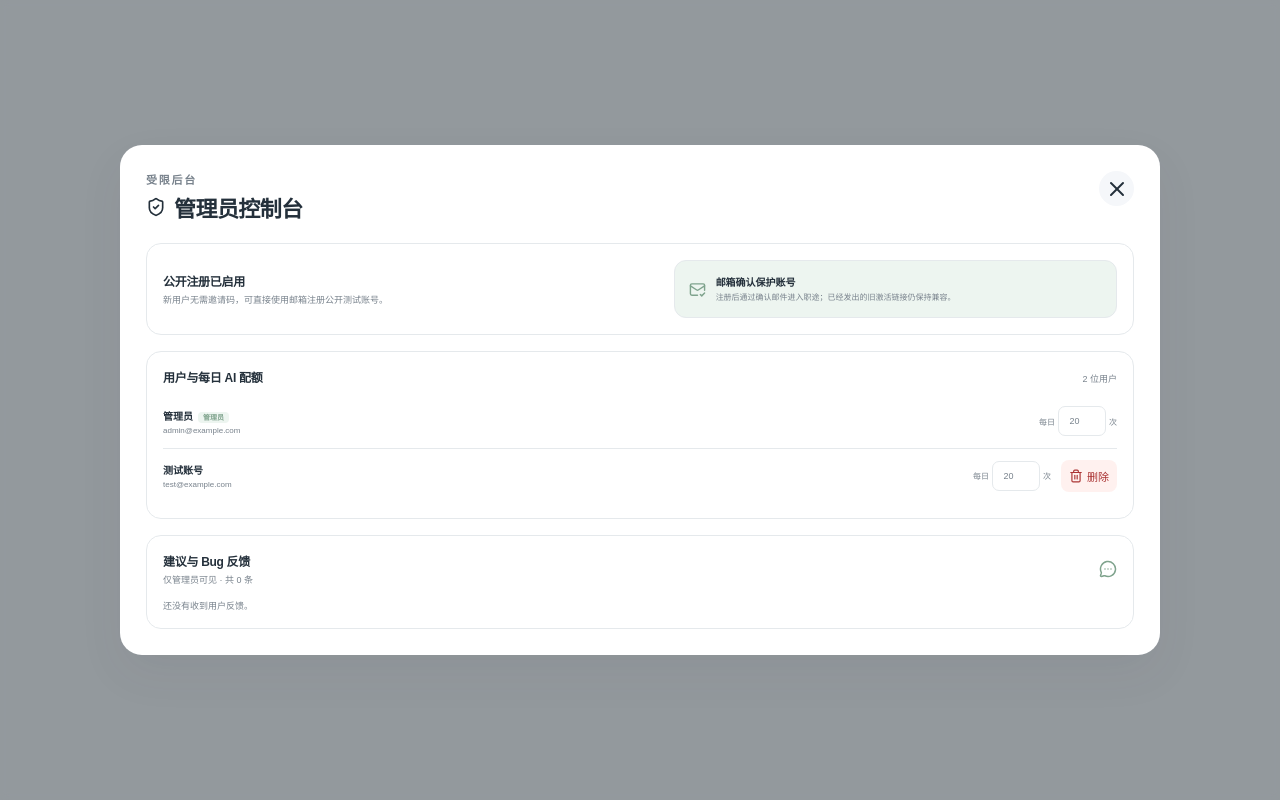
Test: AdminPanel › requires the matching email then removes the account from the list
This screenshot has width=1280, height=800.
Click the button with aria-label "删除用户 test@example.com" at (1089, 476), box [1061,460,1117,492]
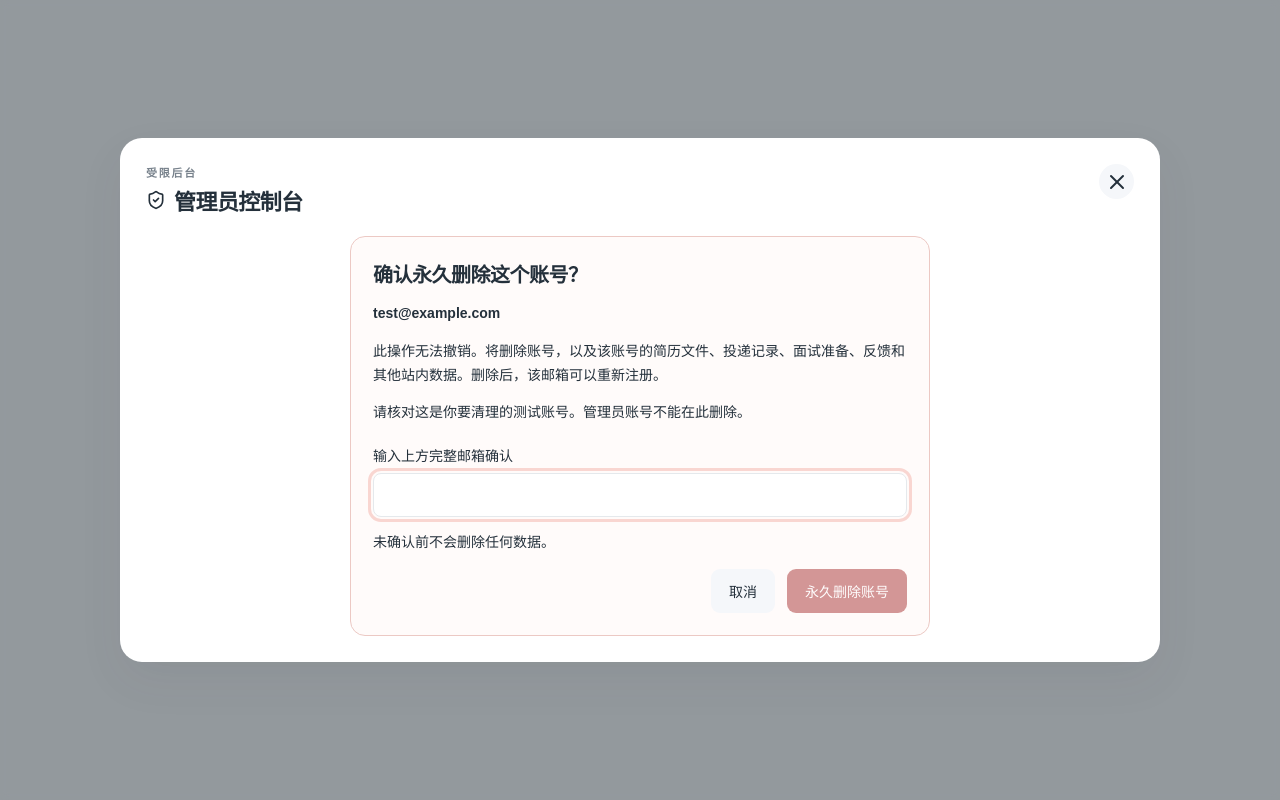
Type "wrong@example.com" into the field labelled "输入上方完整邮箱确认" at (640, 495), box [373,473,907,517]
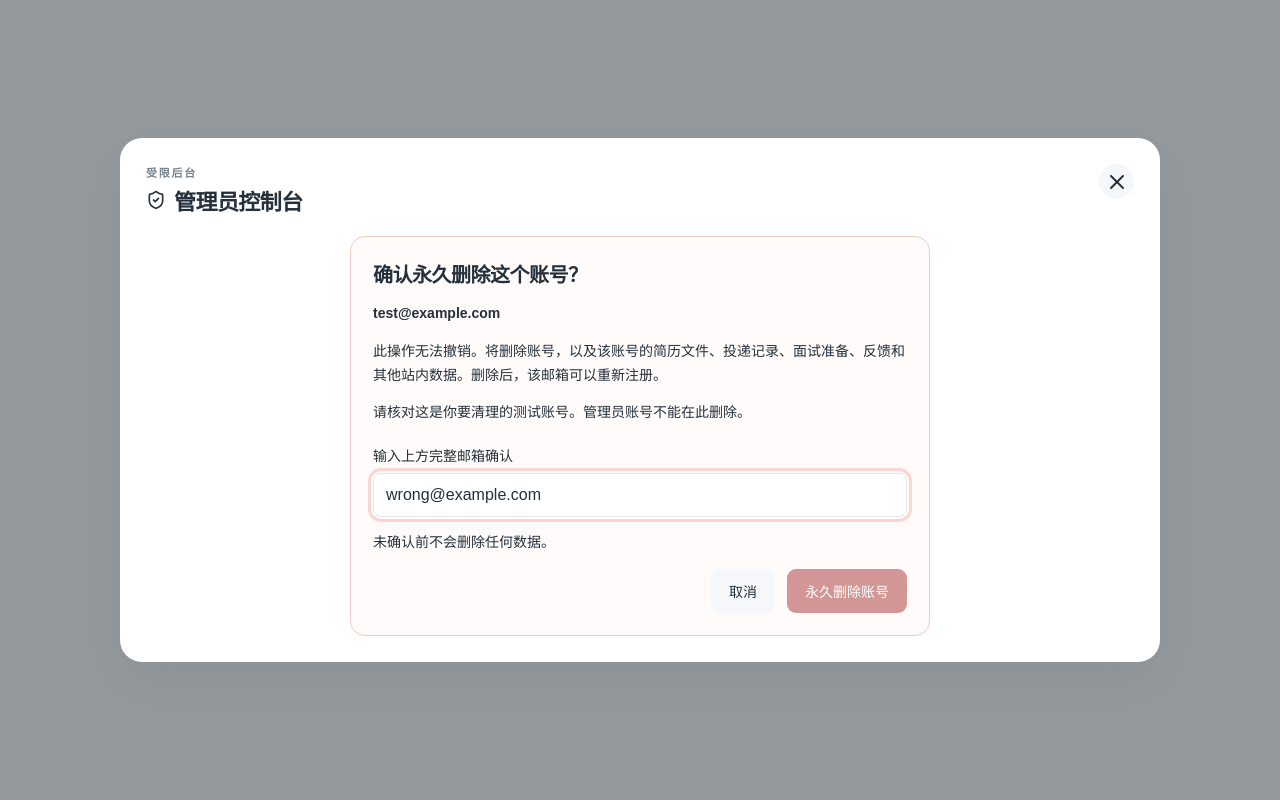
Expected: the button "永久删除账号" is disabled, [787,569,907,613]
Replace the text in the field labelled "输入上方完整邮箱确认" with "test@example.com" at (640, 495), box [373,473,907,517]
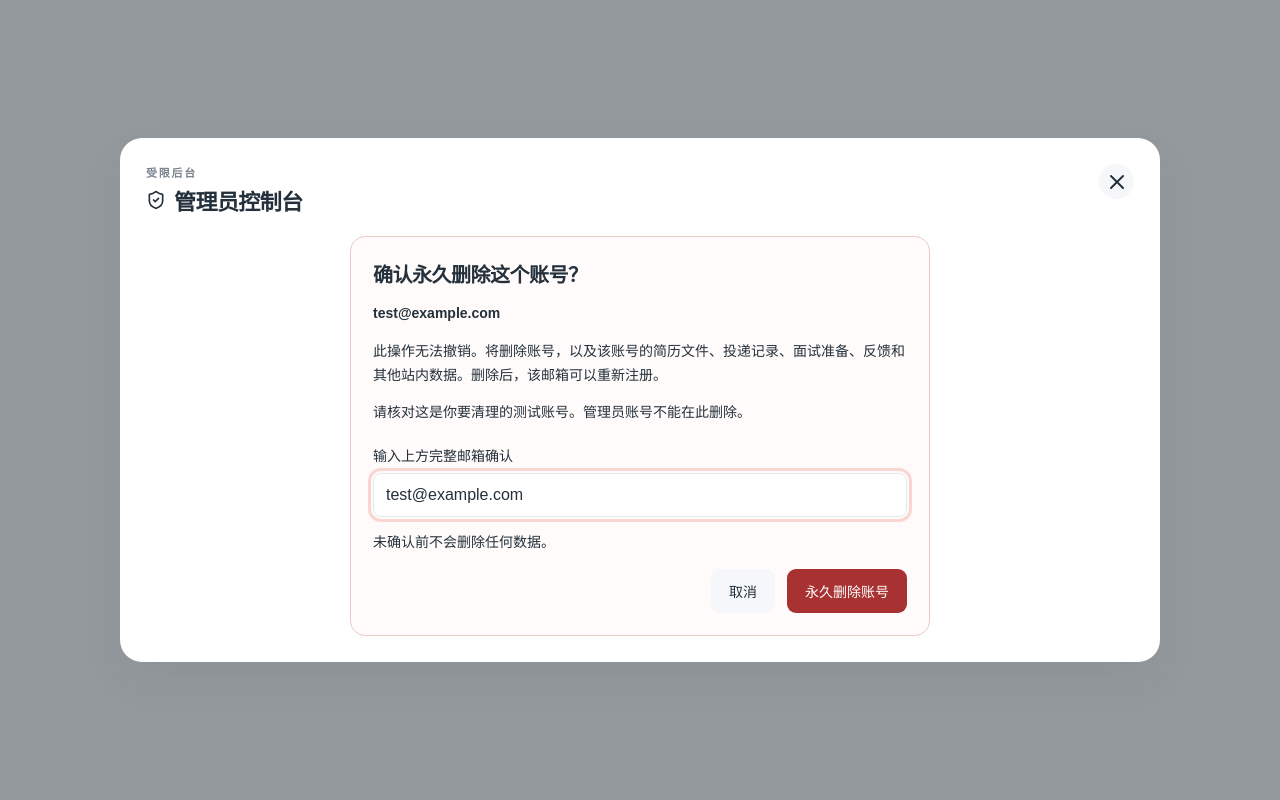
Click the button "永久删除账号" at (847, 591), box [787,569,907,613]
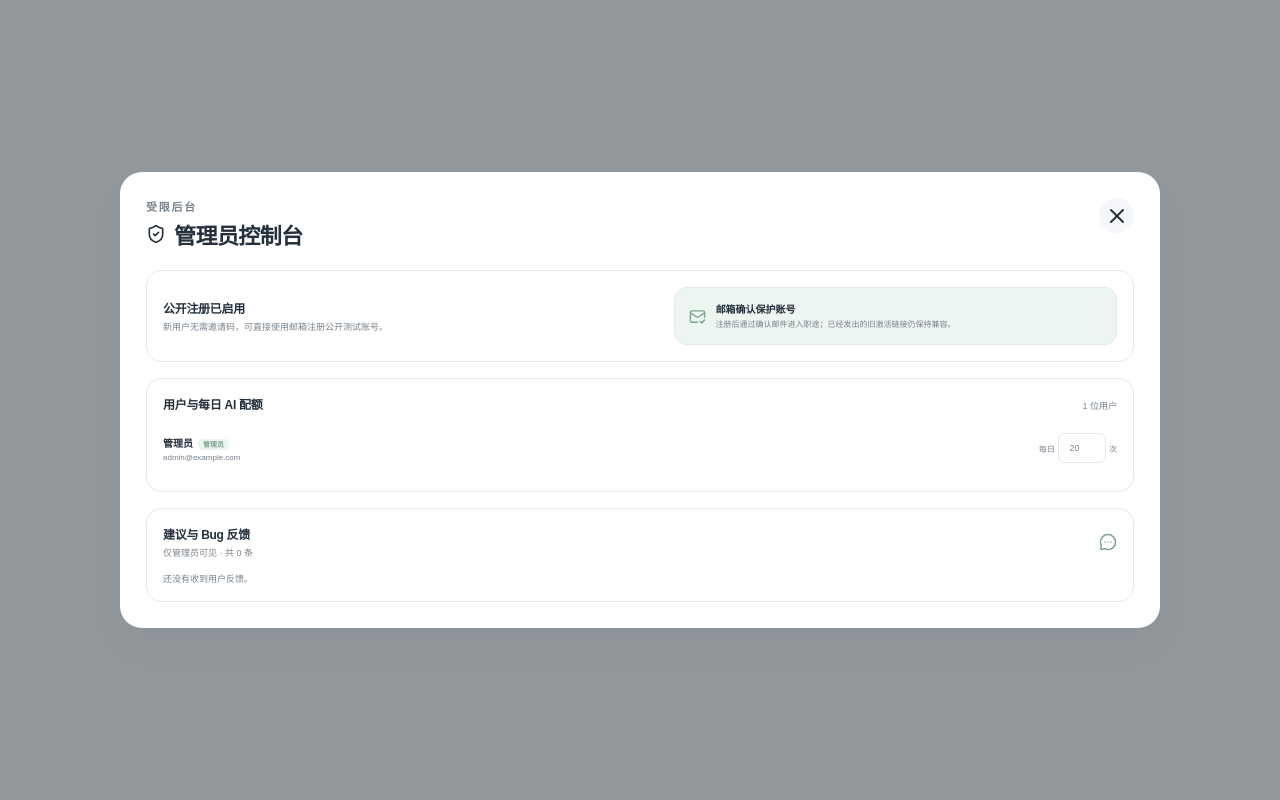
Expected: the text "admin@example.com" is shown, [163,452,240,462]
